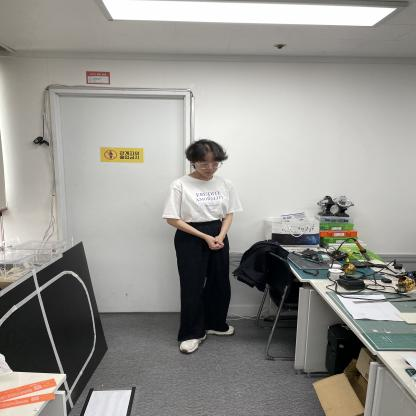normal: (167, 137, 244, 353)
